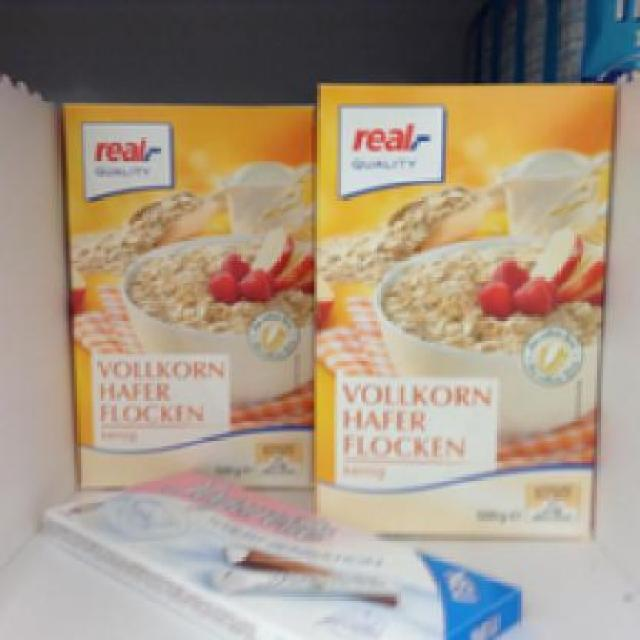Cereal: (312, 79, 618, 532), (56, 100, 310, 486)
